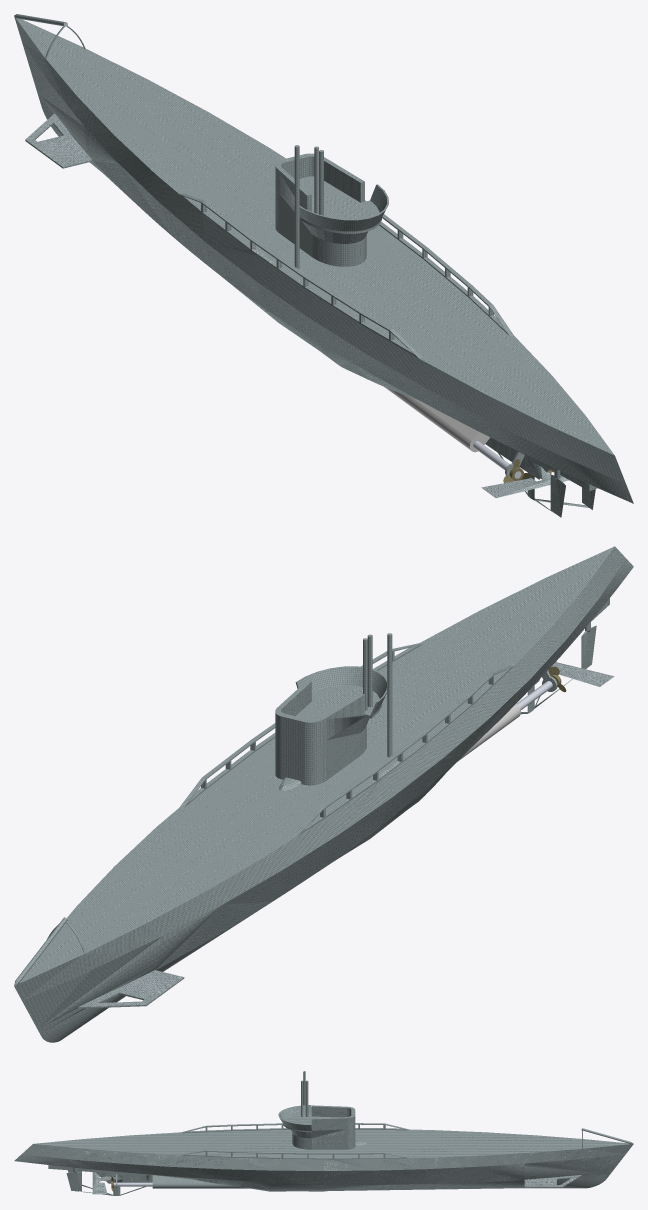
3 views of the same model, one above another, from view 1: azimuth 30°, elevation 25°; view 2: azimuth 150°, elevation 25°; view 3: azimuth 270°, elevation 25° (orthographic). The views are drawn at different scales.
Parts seen in each view (by area): view 1: Material2, Material2.001, Material3.001; view 2: Material2, Material3.001; view 3: Material2, Material3.001.
Boxes of the visible parts, x1,y1,x2,y2 form: Material2: (14,14,633,517); Material2.001: (384,387,489,452); Material3.001: (27,114,567,497); Material2: (14,546,633,1042); Material3.001: (80,662,612,1007); Material2: (14,1071,633,1195); Material3.001: (92,1172,575,1193).
Size of the model in its own units: 191732 by 298750 by 1487169.
